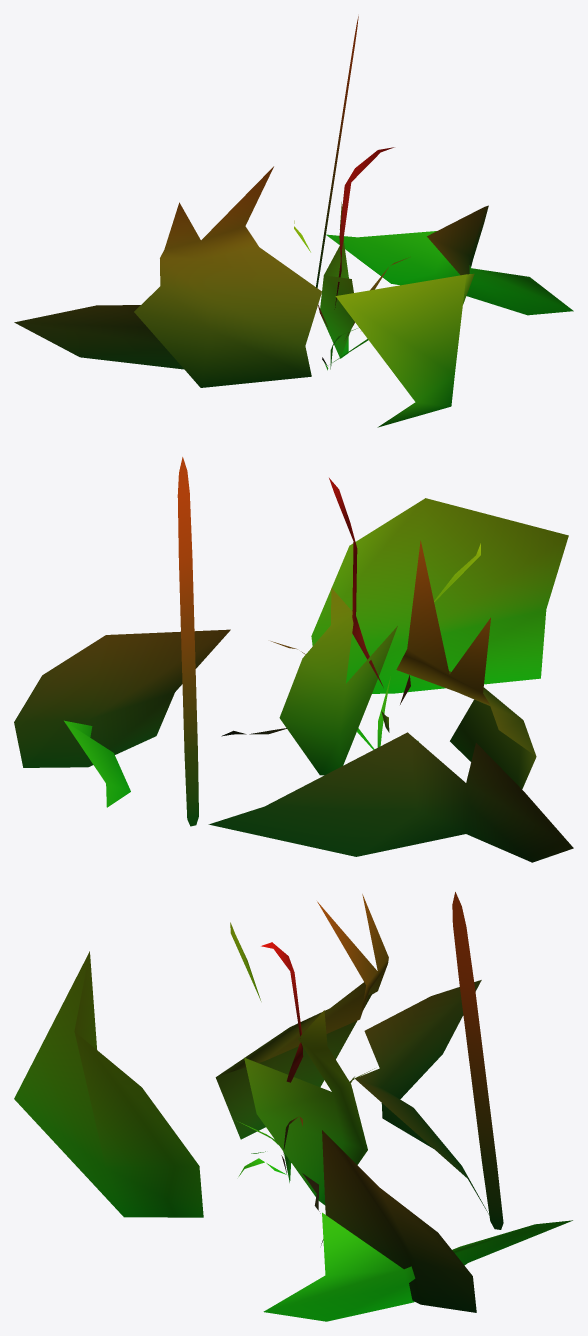
File: SM_OW_GrassLawn_b_LOD2.fbx
The picture shows the model from 3 angles, top to bottom: view 1: azimuth 30°, elevation 25°; view 2: azimuth 150°, elevation 25°; view 3: azimuth 270°, elevation 25°; orthographic projection. The views are drawn at different scales.
Parts seen in each view (by area): view 1: SM_OW_GrassLawn_b_LOD2; view 2: SM_OW_GrassLawn_b_LOD2; view 3: SM_OW_GrassLawn_b_LOD2.
Boxes of the visible parts, x1=… form: SM_OW_GrassLawn_b_LOD2: x1=14, y1=16, x2=573, y2=427; SM_OW_GrassLawn_b_LOD2: x1=14, y1=457, x2=573, y2=862; SM_OW_GrassLawn_b_LOD2: x1=14, y1=892, x2=572, y2=1321.
Size of the model in its own units: 0.5811 by 0.3458 by 0.4838.
